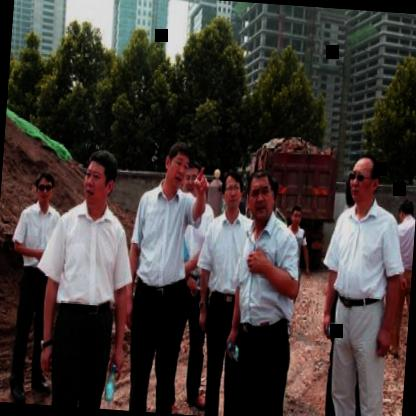head: (80, 145, 121, 214), (347, 152, 384, 209), (247, 168, 278, 226), (161, 138, 192, 190), (221, 170, 244, 217), (184, 158, 208, 198), (33, 172, 56, 210), (396, 195, 416, 229), (289, 200, 306, 232)
